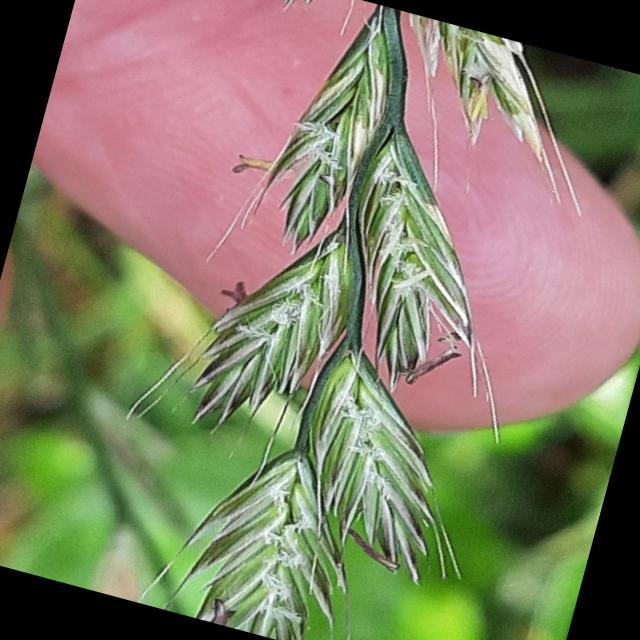Lolium: (77, 0, 610, 640)
